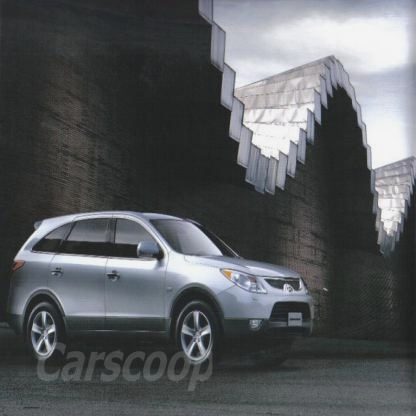Vehicle: (11, 209, 313, 368)
